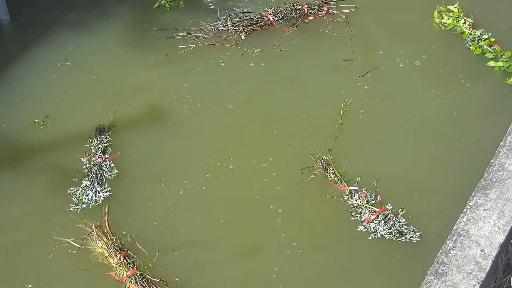twig: (306, 154, 429, 249), (153, 0, 363, 52), (72, 214, 178, 288), (434, 6, 512, 88), (76, 122, 113, 210)
